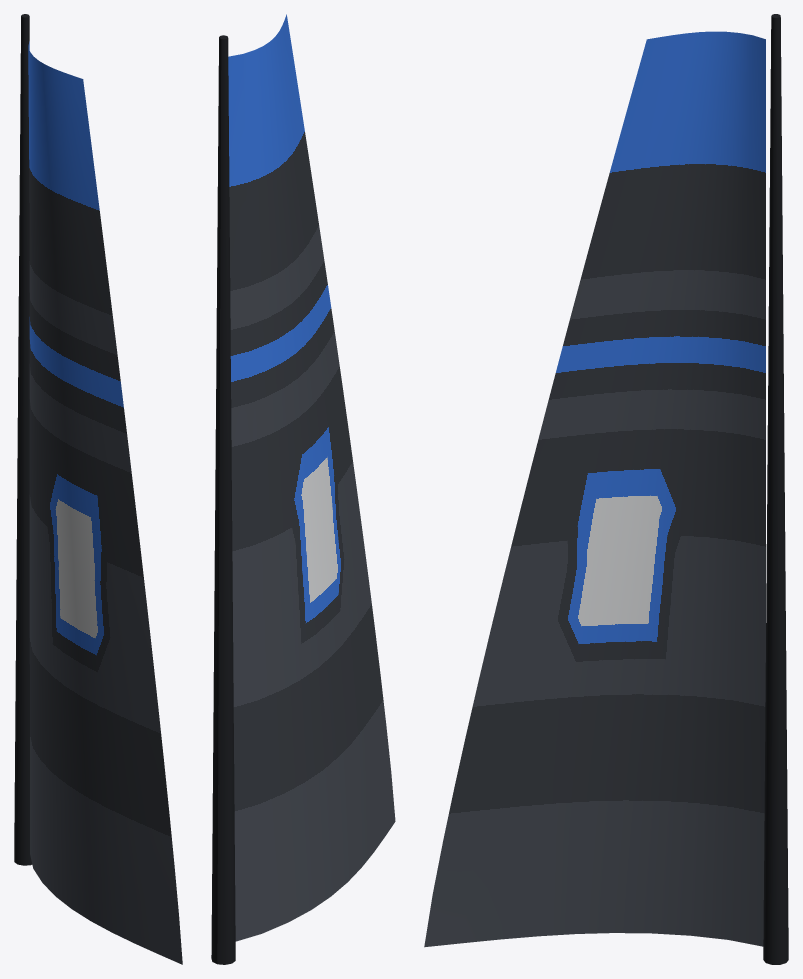
The model's file is rig_2_p.glb.
The picture shows the model from 3 angles, left to right: view 1: azimuth 30°, elevation 25°; view 2: azimuth 150°, elevation 25°; view 3: azimuth 270°, elevation 25°; orthographic projection. The views are drawn at different scales.
Visible parts, largest first — view 1: rig_2_p_body; view 2: rig_2_p_body; view 3: rig_2_p_body.
Part boxes in pixels (box(x1,y1,x2,y2)): rig_2_p_body: box(14, 14, 182, 964); rig_2_p_body: box(211, 14, 395, 964); rig_2_p_body: box(424, 14, 788, 964).
Bounding box in the file's own units: 1.15 × 26.2 × 9.17.
Materials: 1 (1 with a texture image).
